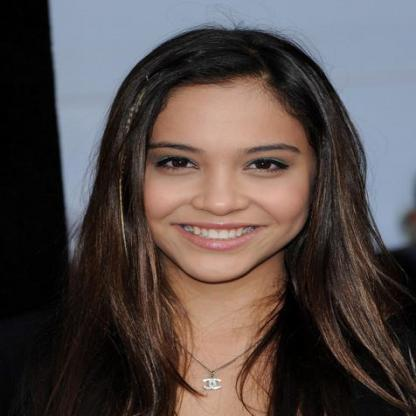long-hair: (73, 283, 386, 334)
